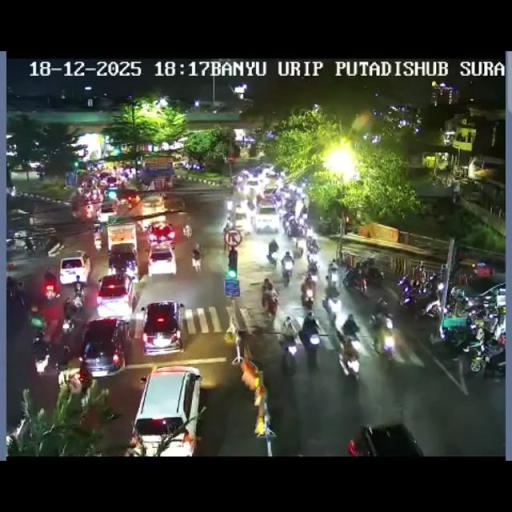Car: (128, 364, 202, 454), (78, 316, 128, 378), (348, 422, 426, 456), (140, 300, 185, 355), (96, 274, 137, 319), (58, 252, 92, 285), (107, 242, 139, 277), (252, 194, 280, 234), (146, 242, 177, 276), (139, 193, 169, 227), (458, 257, 496, 279), (232, 204, 250, 234), (116, 189, 141, 207), (98, 201, 116, 223), (244, 176, 266, 194), (255, 163, 275, 179), (98, 171, 112, 186), (172, 159, 185, 169)
Motorcycle: (322, 259, 402, 373), (262, 236, 322, 316), (399, 277, 442, 318), (436, 314, 475, 354), (466, 333, 504, 374), (299, 316, 320, 366), (278, 318, 298, 368), (339, 340, 360, 378), (372, 322, 394, 358), (462, 300, 492, 323), (32, 333, 50, 371), (69, 366, 93, 393), (449, 285, 469, 315), (346, 270, 368, 295), (285, 216, 306, 240), (323, 286, 341, 312), (70, 281, 86, 310), (44, 235, 65, 256), (306, 235, 320, 266), (342, 314, 360, 338), (262, 290, 278, 316), (29, 308, 46, 332), (22, 241, 44, 259), (493, 306, 506, 336), (300, 283, 315, 308), (114, 318, 129, 342), (373, 296, 389, 318), (61, 312, 76, 334), (281, 261, 293, 285), (318, 216, 334, 234), (222, 221, 233, 247), (44, 281, 58, 301), (306, 262, 320, 282), (413, 263, 425, 286), (54, 357, 70, 374), (6, 277, 18, 299), (292, 238, 305, 258), (192, 250, 202, 272), (266, 246, 278, 264), (16, 280, 26, 301), (328, 265, 339, 284), (88, 188, 102, 202), (92, 234, 102, 252), (383, 314, 394, 330), (182, 223, 192, 238), (78, 182, 88, 196), (6, 236, 16, 249), (89, 176, 99, 189), (246, 197, 254, 210), (229, 182, 236, 196), (118, 176, 126, 188), (38, 171, 44, 181)
